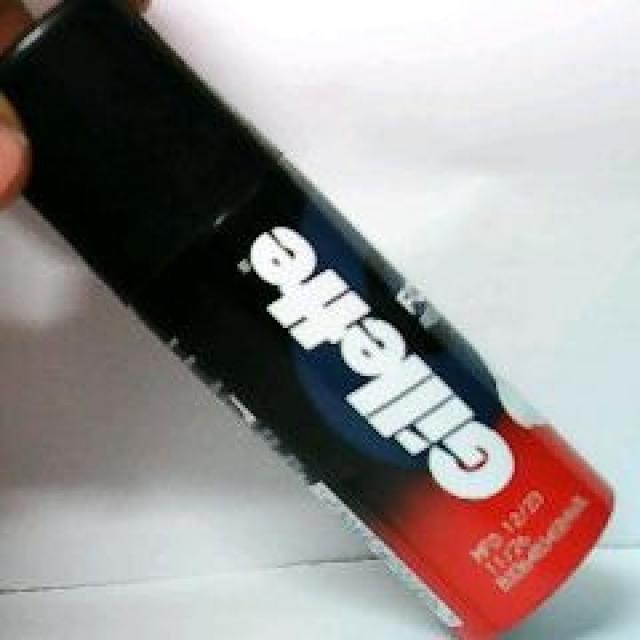gillette-foam: (0, 0, 616, 637)
